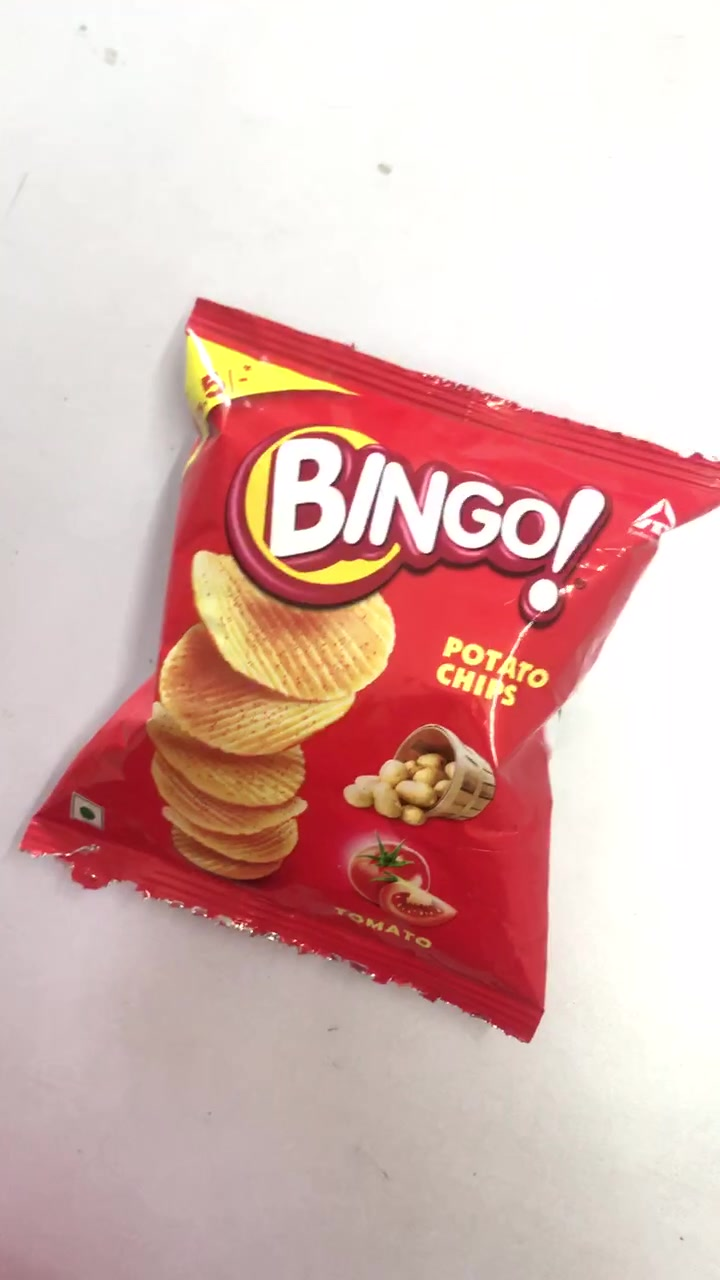Bingo: (23, 299, 720, 1031)
